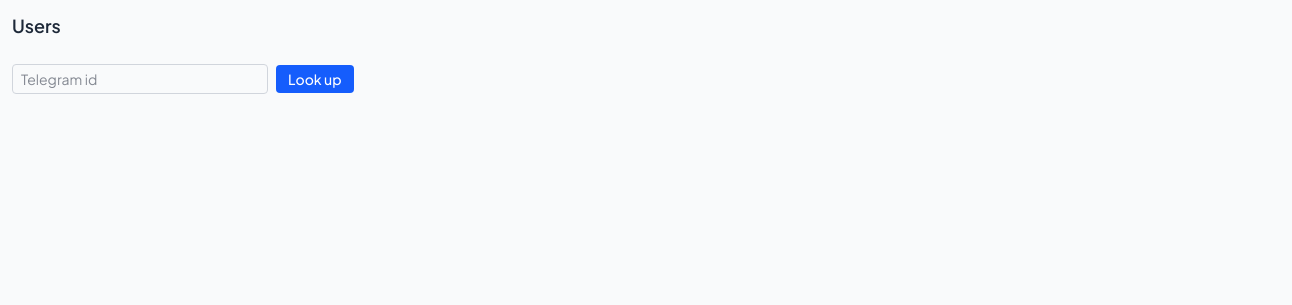
Test: OpsUsers lookup + footprint › shows the not-found state for an unknown telegram id
The width and height of the screenshot is (1292, 305).
Type "999" into the field with placeholder "Telegram id" at (140,79), box [12,64,268,94]
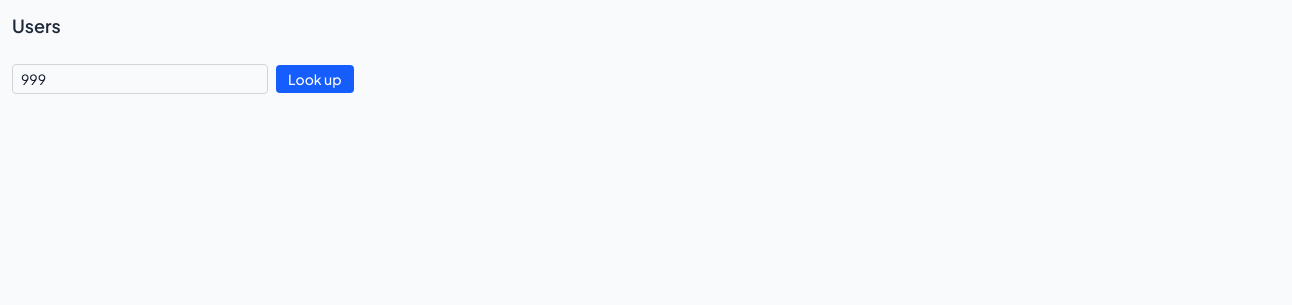
Click the button "Look up" at (315,79), box [276,65,354,93]
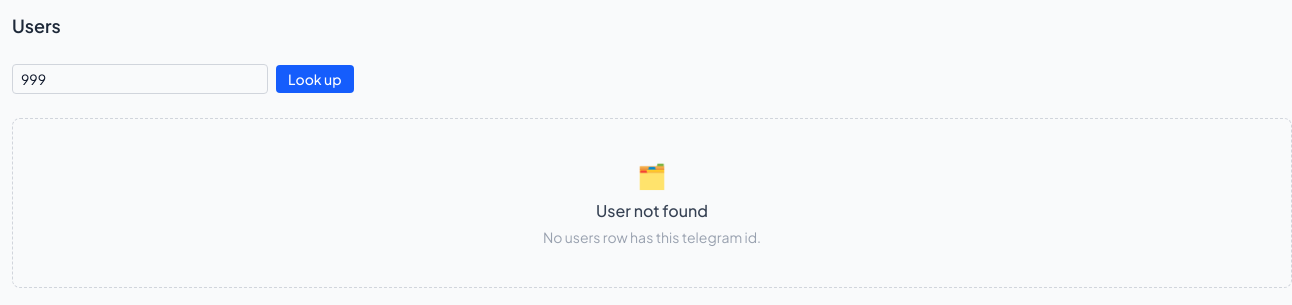
Expected: the text "User not found" is shown, [596,199,708,223]
